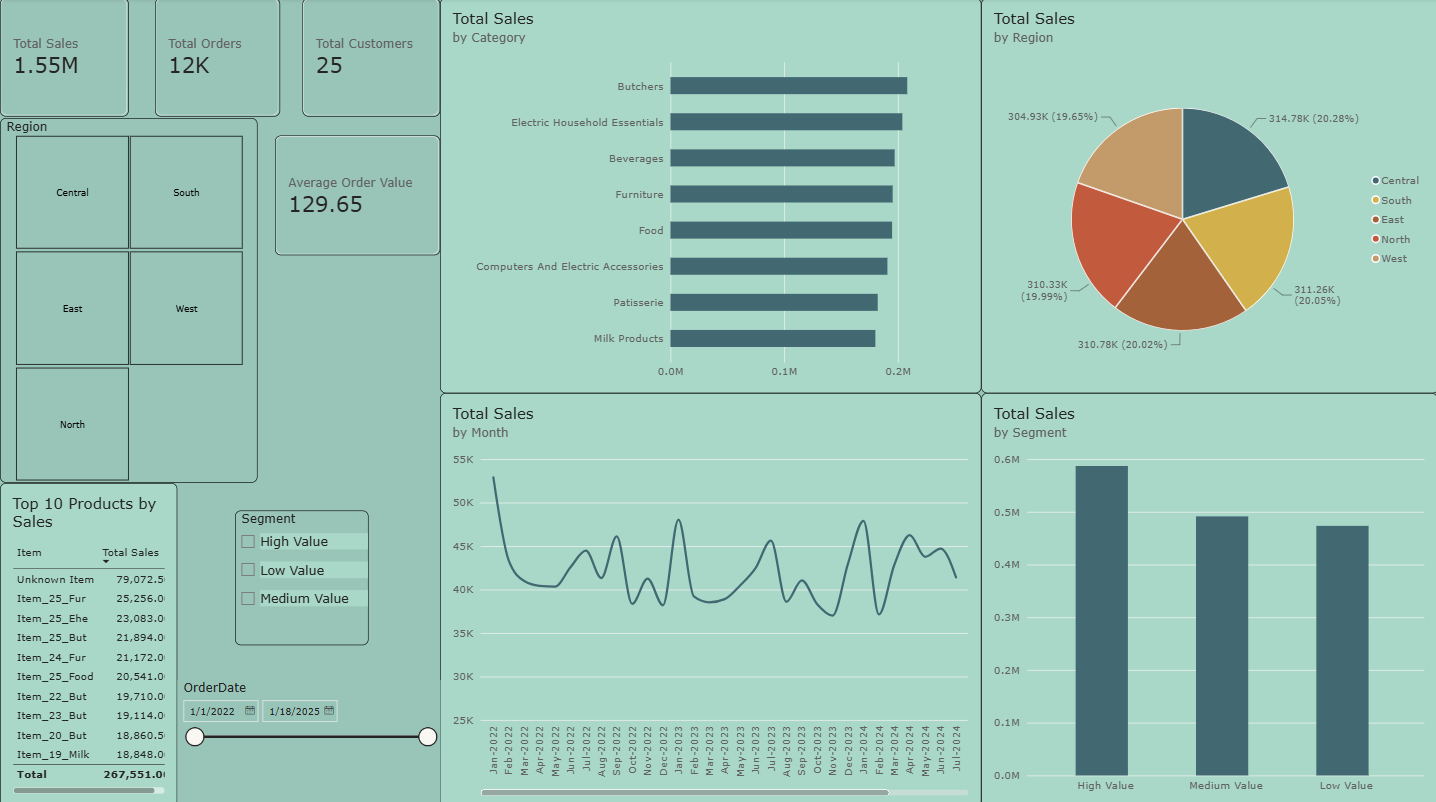

This screenshot's page, from the dashboard's own definition file:
{"tool":"powerbi","page":{"name":"Page 1","canvas":[1920,1080],"ordinal":0},"visuals":[{"type":"cardVisual","fields":{"Data":["Orders.Total Sales"]},"box":[0,0,172,158.6],"z":0},{"type":"cardVisual","fields":{"Data":["Orders.Total Orders"]},"box":[207.1,0,167,158.6],"z":1},{"type":"cardVisual","fields":{"Data":["Orders.Total Customers"]},"box":[404.1,0,183.7,158.6],"z":2},{"type":"cardVisual","fields":{"Data":["Orders.Average Order Value"]},"box":[367.3,183.7,220.4,160.3],"z":3},{"type":"clusteredBarChart","fields":{"Category":["Products.Category"],"Y":["Orders.Total Sales"]},"box":[587.8,0,723,527.6],"z":4},{"type":"pieChart","fields":{"Category":["Customers.Region"],"Y":["Orders.Total Sales"]},"box":[1310.8,0,611.1,527.6],"z":5},{"type":"lineChart","fields":{"Category":["Orders.Month"],"Y":["Orders.Total Sales"]},"box":[587.8,527.6,723,552.7],"z":6},{"type":"clusteredColumnChart","fields":{"Category":["Orders.Segment"],"Y":["Orders.Total Sales"]},"box":[1310.8,527.6,609.5,552.7],"z":7},{"type":"tableEx","title":"Top 10 Products by Sales","fields":{"Values":["Orders.Item","Orders.Total Sales"]},"box":[0,647.9,237.1,432.5],"z":8},{"type":"slicer","fields":{"Values":["Customers.Region"]},"box":[0,160.3,344,487.6],"z":9},{"type":"slicer","fields":{"Values":["Orders.Segment"]},"box":[313.9,684.6,178.7,180.3],"z":10},{"type":"slicer","fields":{"Values":["Orders.OrderDate"]},"box":[237.1,911.7,350.7,168.6],"z":11}]}

Visuals, with their boxes in screenshot pixels (x1, y1, x2, y2), scaled from the page's 1920x1080 canvas onto the 1436x802 screenshot:
cardVisual - Orders.Total Sales: select_region(0, 0, 129, 118)
cardVisual - Orders.Total Orders: select_region(155, 0, 280, 118)
cardVisual - Orders.Total Customers: select_region(302, 0, 440, 118)
cardVisual - Orders.Average Order Value: select_region(275, 136, 440, 255)
clusteredBarChart - Products.Category x Orders.Total Sales: select_region(440, 0, 980, 392)
pieChart - Customers.Region x Orders.Total Sales: select_region(980, 0, 1435, 392)
lineChart - Orders.Month x Orders.Total Sales: select_region(440, 392, 980, 801)
clusteredColumnChart - Orders.Segment x Orders.Total Sales: select_region(980, 392, 1435, 801)
"Top 10 Products by Sales" tableEx: select_region(0, 481, 177, 801)
slicer - Customers.Region: select_region(0, 119, 257, 481)
slicer - Orders.Segment: select_region(235, 508, 368, 642)
slicer - Orders.OrderDate: select_region(177, 677, 440, 801)
